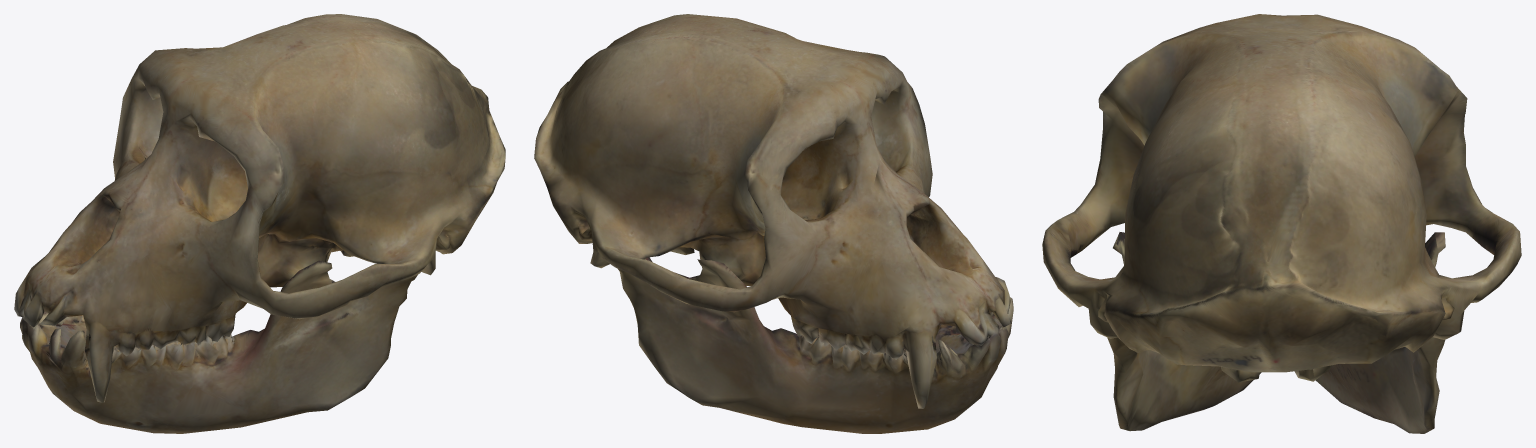
File: rhesus-skull.glb
3 views of the same model, side by side, from view 1: azimuth 30°, elevation 25°; view 2: azimuth 150°, elevation 25°; view 3: azimuth 270°, elevation 25° (orthographic). The views are drawn at different scales.
Parts seen in each view (by area): view 1: skull.6k; view 2: skull.6k; view 3: skull.6k.
Boxes of the visible parts, x1=… form: skull.6k: x1=14, y1=14, x2=505, y2=433; skull.6k: x1=534, y1=14, x2=1013, y2=433; skull.6k: x1=1042, y1=14, x2=1521, y2=433.
Size of the model in its own units: 0.1346 by 0.0988 by 0.101.
Materials: 1 (1 with a texture image).
